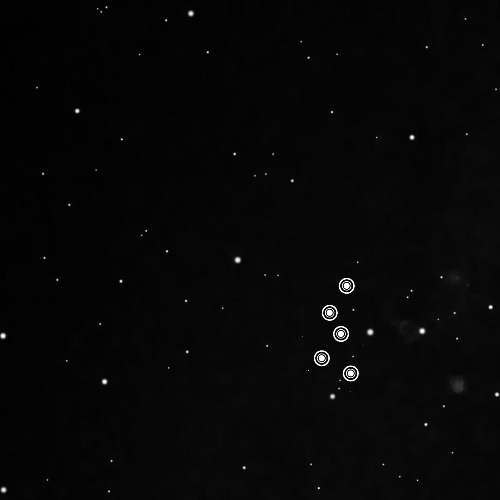cassiopeia: (299, 265, 368, 392)
